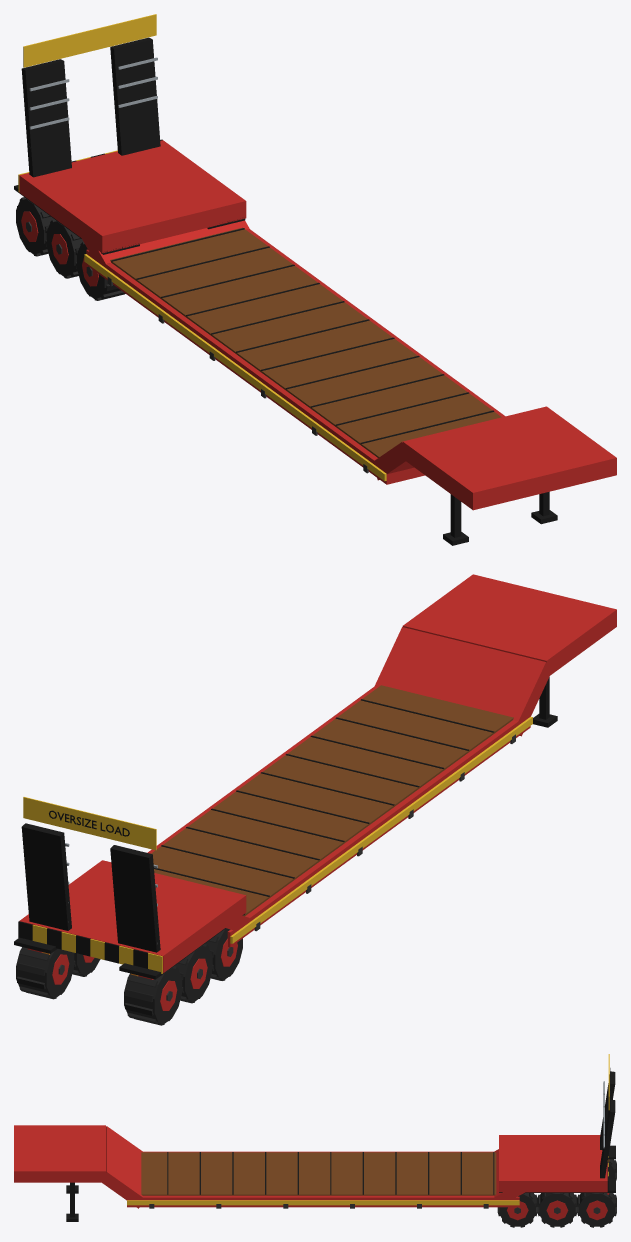
File: Trailer_LowLoader.fbx
3 renders of one model, top to bottom at view 1: azimuth 30°, elevation 25°; view 2: azimuth 150°, elevation 25°; view 3: azimuth 270°, elevation 25°, orthographic. The views are drawn at different scales.
Parts seen in each view (by area): view 1: Trailer_LowLoader, Trailer_LowLoader_Wheel_A3R, Trailer_LowLoader_Wheel_A2R, Trailer_LowLoader_Wheel_A1R; view 2: Trailer_LowLoader, Trailer_LowLoader_Wheel_A3R, Trailer_LowLoader_Wheel_A3L, Trailer_LowLoader_Wheel_A2R, Trailer_LowLoader_Wheel_A1R; view 3: Trailer_LowLoader, Trailer_LowLoader_Wheel_A2L, Trailer_LowLoader_Wheel_A3L, Trailer_LowLoader_Wheel_A1L.
Boxes of the visible parts, left/top/right/bottom form: Trailer_LowLoader: left=14, top=14, right=616, bottom=545; Trailer_LowLoader_Wheel_A3R: left=16, top=197, right=54, bottom=256; Trailer_LowLoader_Wheel_A2R: left=46, top=219, right=83, bottom=278; Trailer_LowLoader_Wheel_A1R: left=77, top=242, right=125, bottom=300; Trailer_LowLoader: left=14, top=574, right=616, bottom=979; Trailer_LowLoader_Wheel_A3R: left=124, top=966, right=182, bottom=1025; Trailer_LowLoader_Wheel_A3L: left=16, top=947, right=74, bottom=999; Trailer_LowLoader_Wheel_A2R: left=174, top=944, right=212, bottom=1003; Trailer_LowLoader_Wheel_A1R: left=205, top=928, right=242, bottom=980; Trailer_LowLoader: left=14, top=1054, right=615, bottom=1221; Trailer_LowLoader_Wheel_A2L: left=537, top=1193, right=577, bottom=1227; Trailer_LowLoader_Wheel_A3L: left=577, top=1193, right=616, bottom=1227; Trailer_LowLoader_Wheel_A1L: left=497, top=1193, right=537, bottom=1227.
Size of the model in its own units: 2.69 by 3.46 by 14.43.
